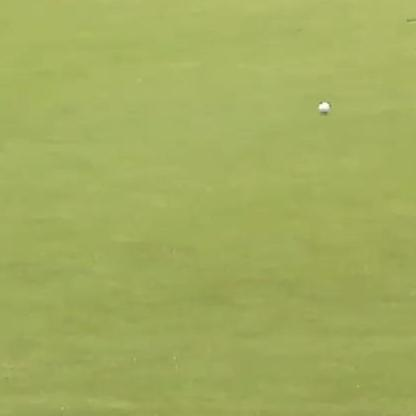golfball: (317, 101, 329, 112)
